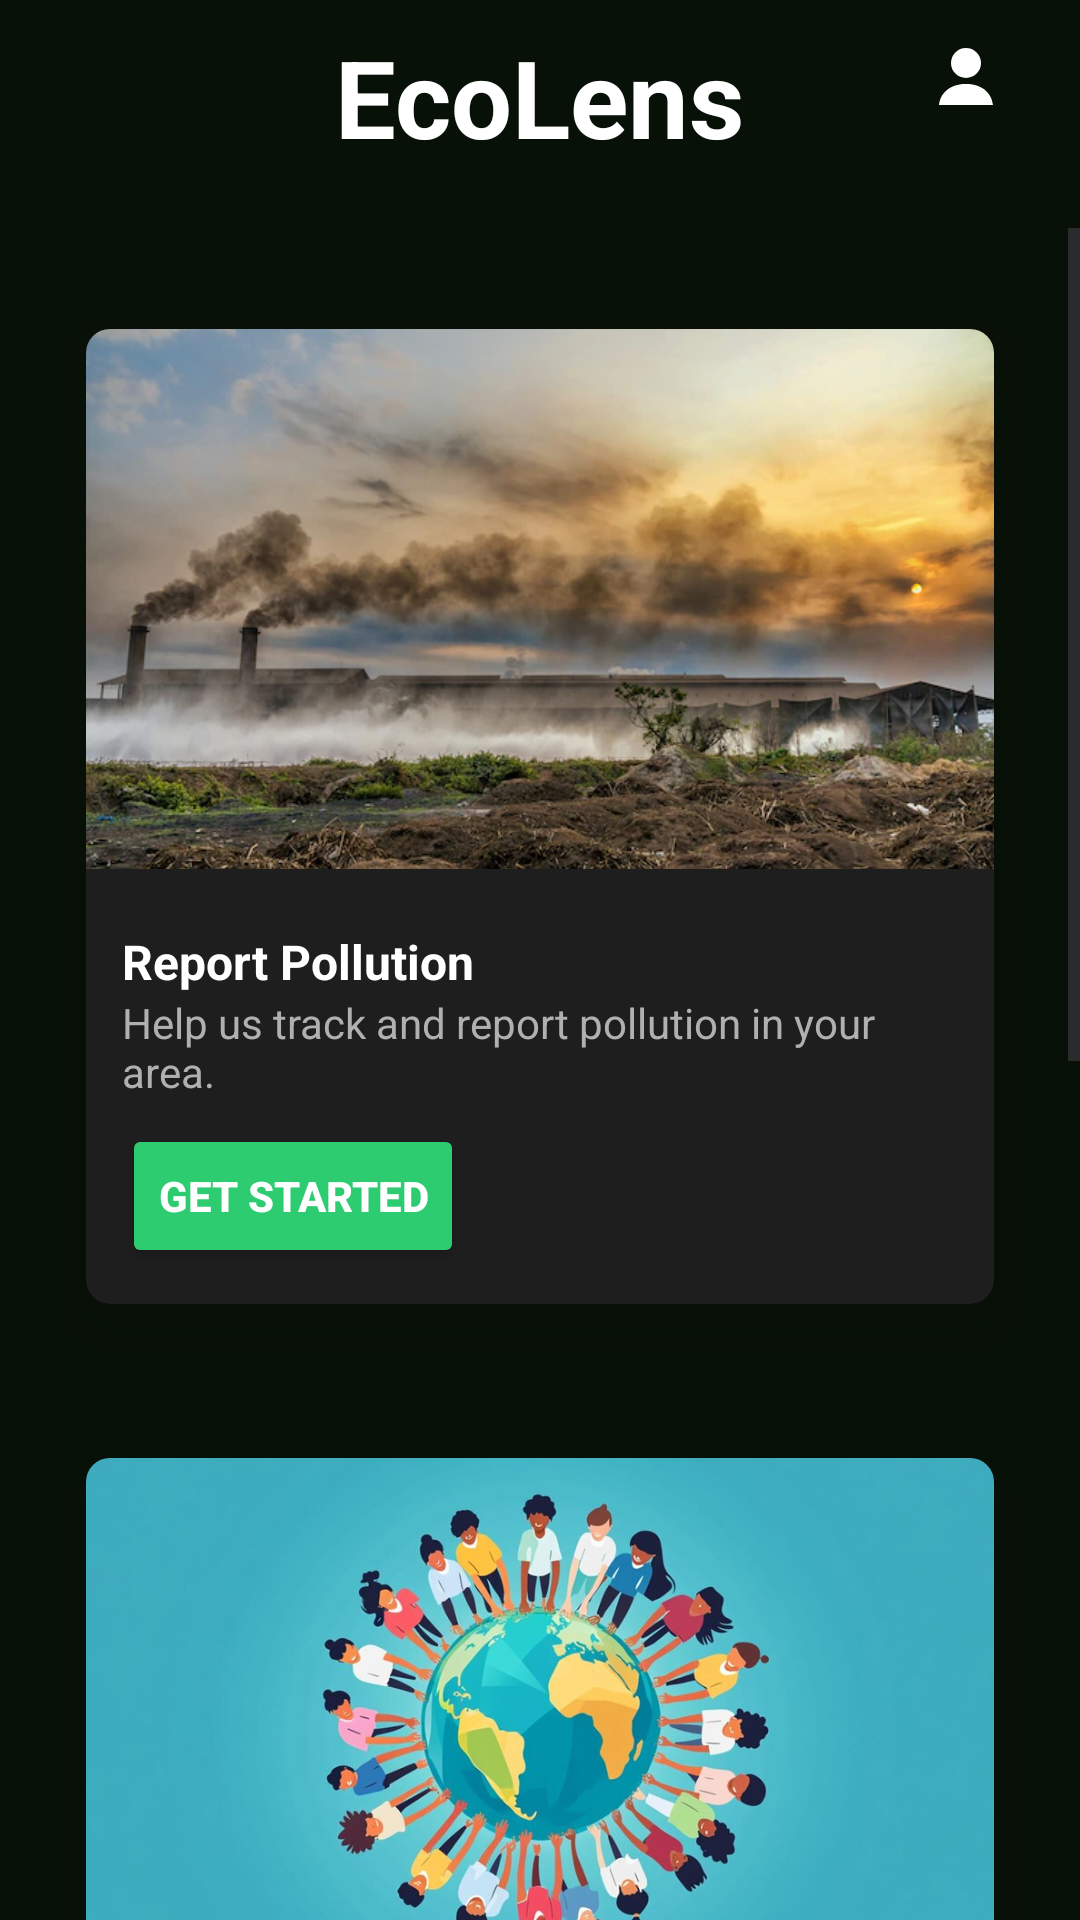

Point at icon controls on the screen. Image size 1080px x 1920px, points as [x,y].
Profile Icon: [966,76]
